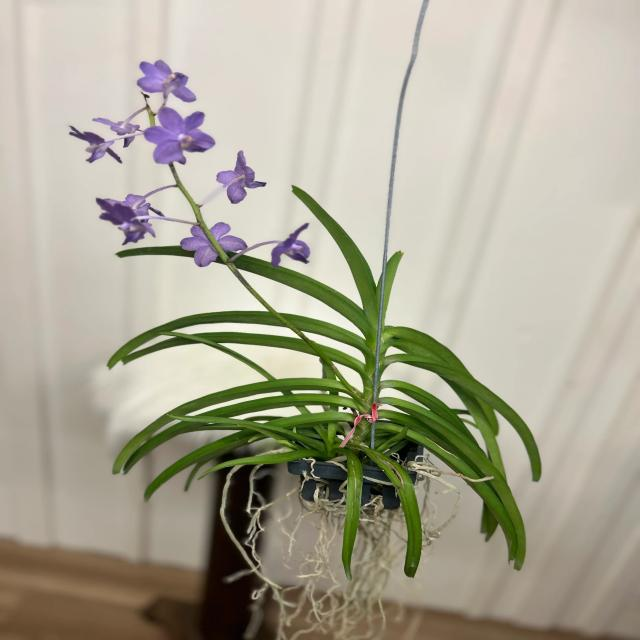flower: (144, 108, 215, 164), (96, 198, 155, 245), (217, 151, 266, 203), (137, 60, 196, 102), (69, 126, 122, 163), (271, 223, 310, 267), (180, 225, 217, 266), (94, 110, 140, 136), (210, 222, 247, 252), (118, 194, 162, 217), (123, 139, 132, 147)
leaf: (382, 398, 524, 552), (386, 353, 541, 481), (144, 410, 351, 500), (118, 378, 345, 460), (235, 256, 372, 339), (293, 186, 377, 311), (111, 311, 285, 361), (368, 450, 421, 577), (174, 415, 328, 455), (112, 420, 225, 474), (384, 326, 475, 381), (185, 392, 349, 420), (384, 381, 466, 429), (283, 314, 365, 350), (191, 332, 317, 355), (342, 450, 362, 579), (211, 450, 322, 470), (384, 251, 404, 312), (498, 399, 516, 415)
plant: (59, 44, 557, 640)
pot: (283, 443, 436, 514)
root: (277, 460, 402, 640), (220, 465, 300, 640), (401, 455, 459, 550)
stem: (346, 352, 387, 444)
